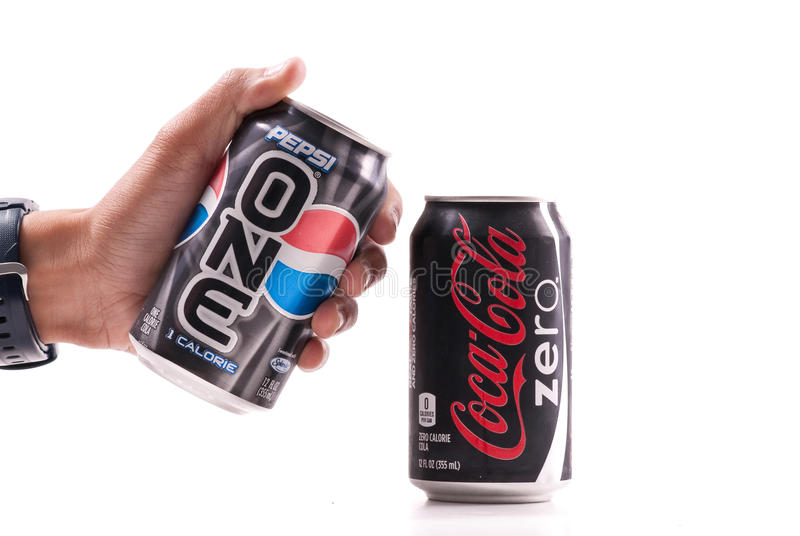can: (141, 69, 388, 449), (401, 173, 591, 529)
